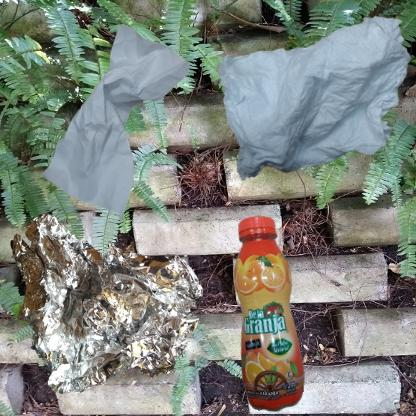aluminio: (10, 213, 203, 395)
botella: (213, 213, 335, 416)
papel: (10, 10, 233, 249), (213, 10, 416, 190)
